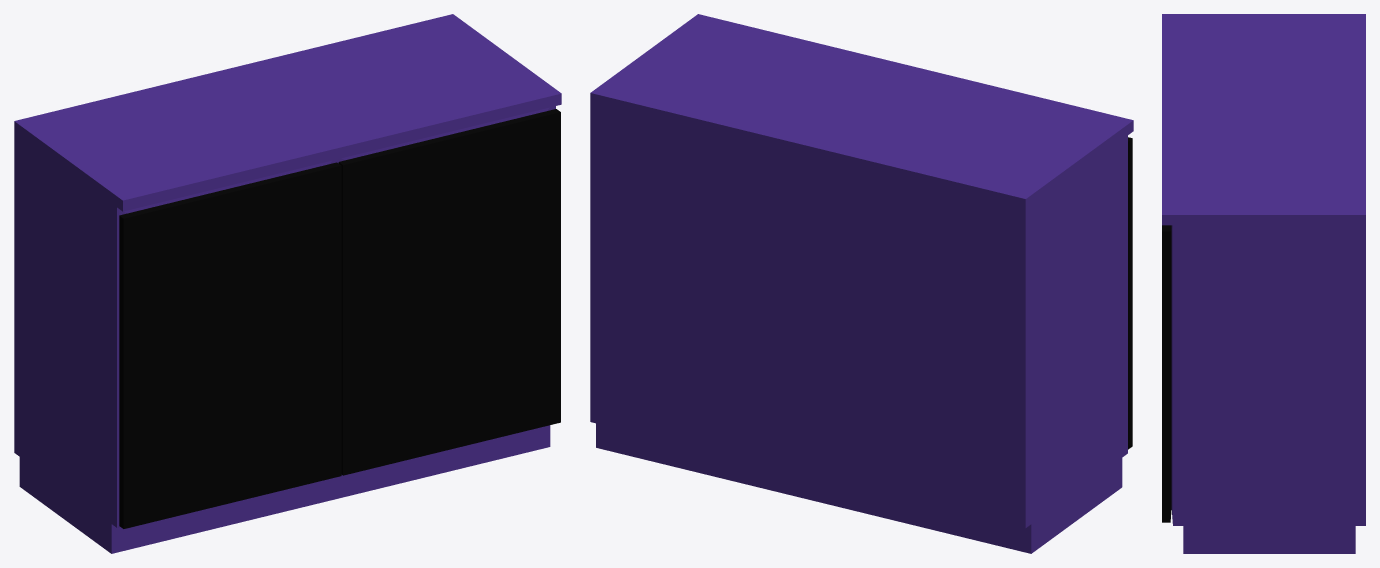
The model's file is kitchen3.fbx.
3 views of the same model, side by side, from view 1: azimuth 30°, elevation 25°; view 2: azimuth 150°, elevation 25°; view 3: azimuth 270°, elevation 25° (orthographic). The views are drawn at different scales.
Parts seen in each view (by area): view 1: kitchen3; view 2: kitchen3; view 3: kitchen3.
Boxes of the visible parts, x1,y1,x2,y2 form: kitchen3: (14, 14, 561, 553); kitchen3: (590, 14, 1133, 553); kitchen3: (1162, 14, 1365, 553).
Bounding box in the file's own units: 105 × 82.83 × 45.11.
